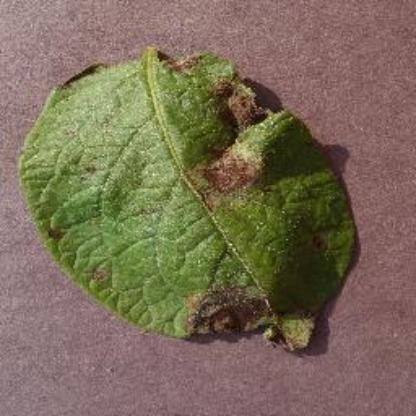Late-Blight: (21, 43, 368, 371)
